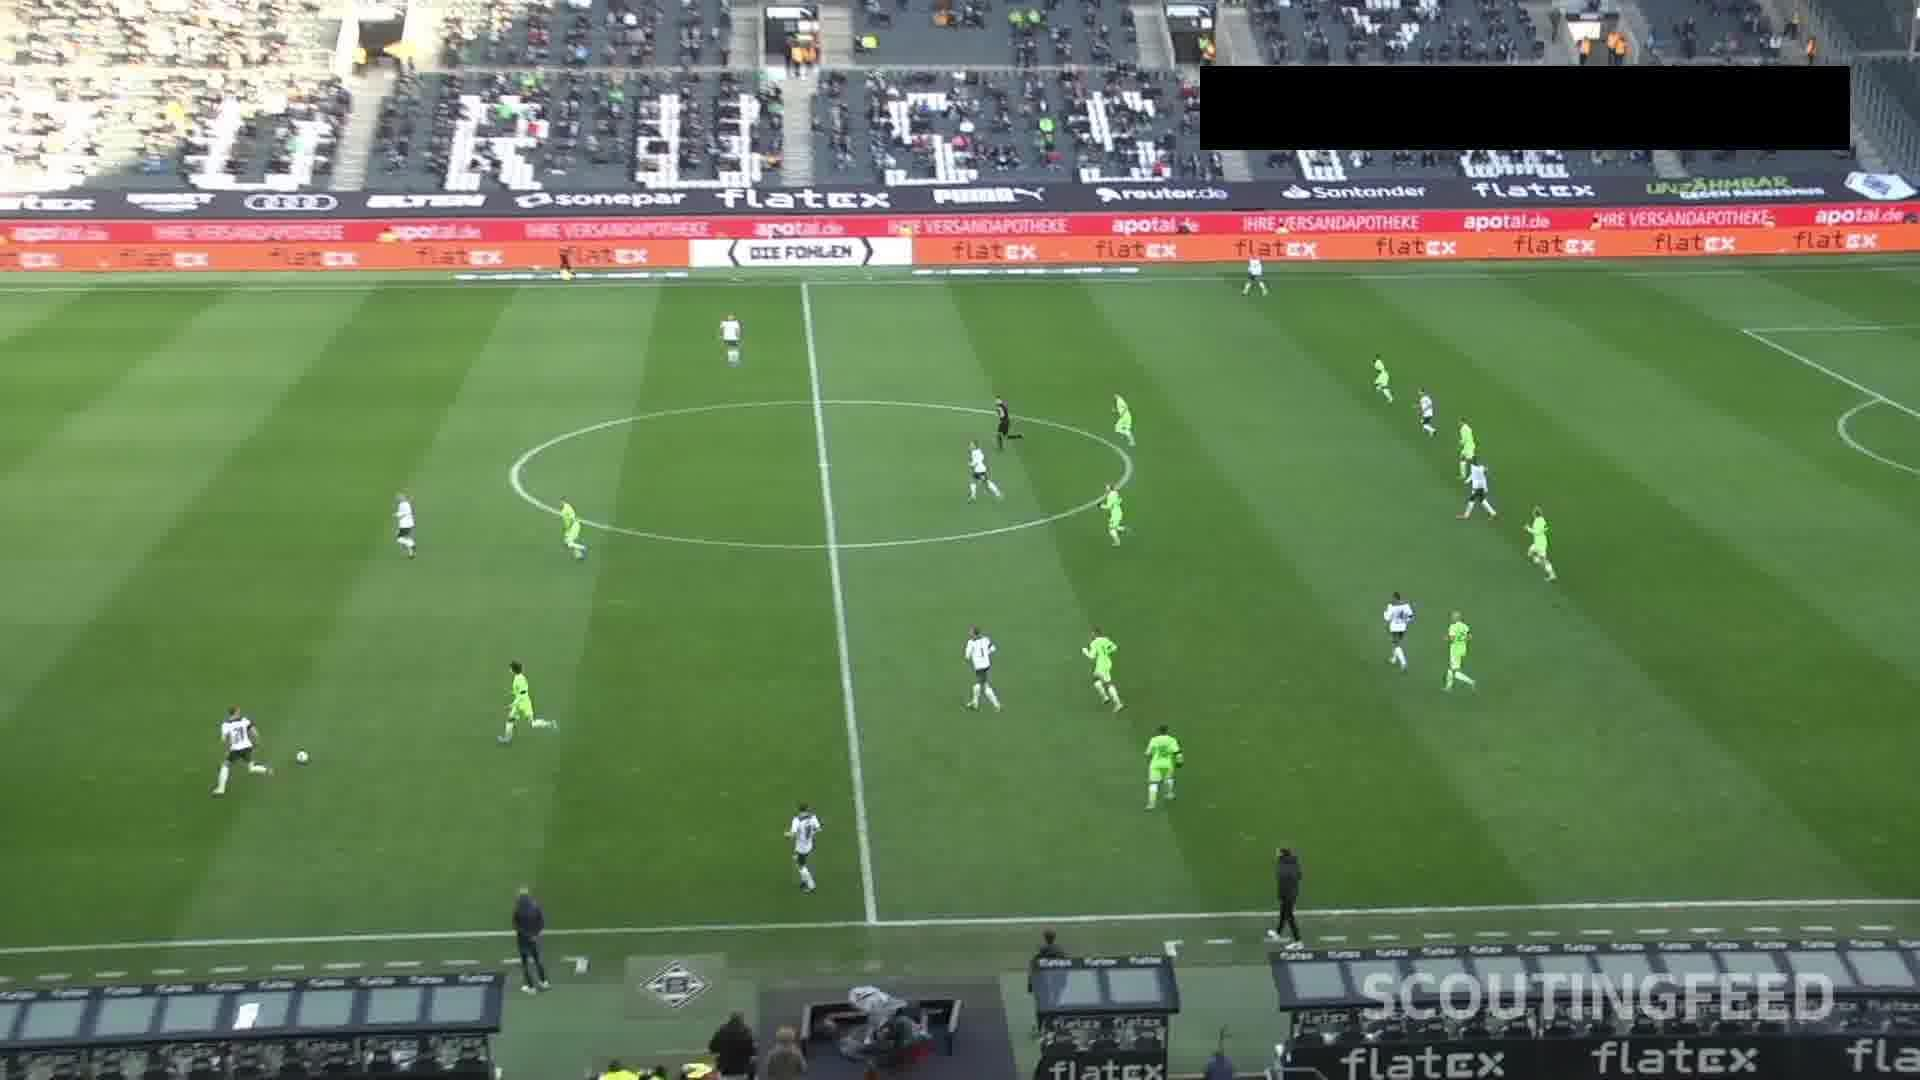football: (297, 748, 310, 764)
